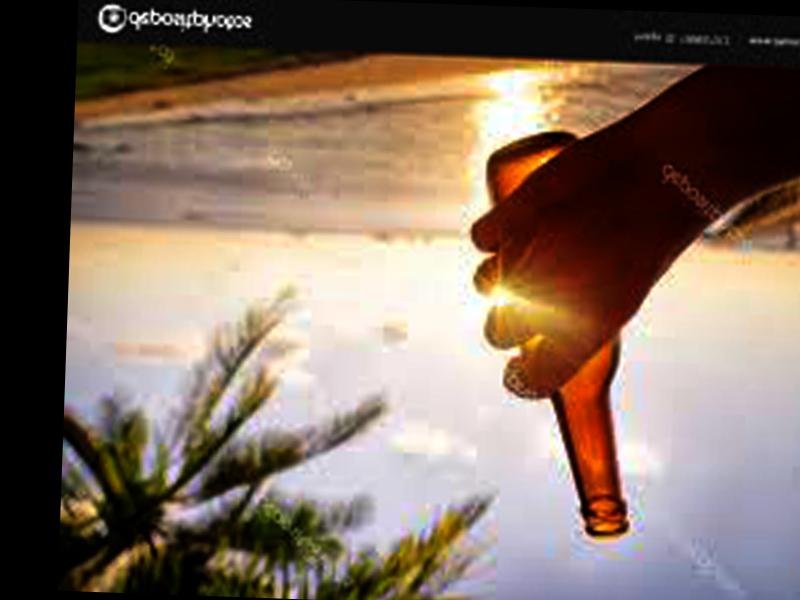Beer: (477, 127, 646, 538)
